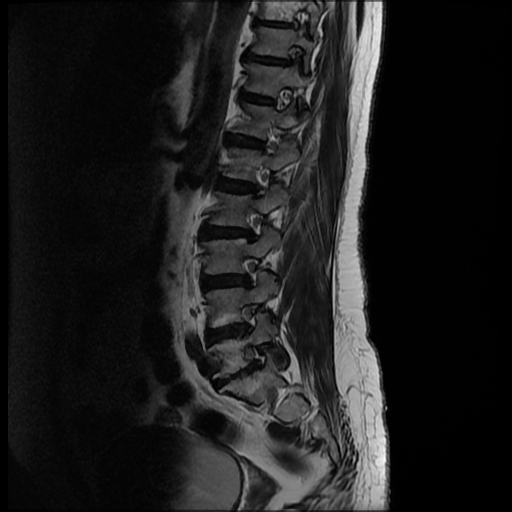LFS0: (241, 161, 277, 202), (234, 249, 268, 291), (238, 205, 272, 247)
LFS1: (233, 296, 267, 336)
LFS2: (239, 337, 274, 379)
